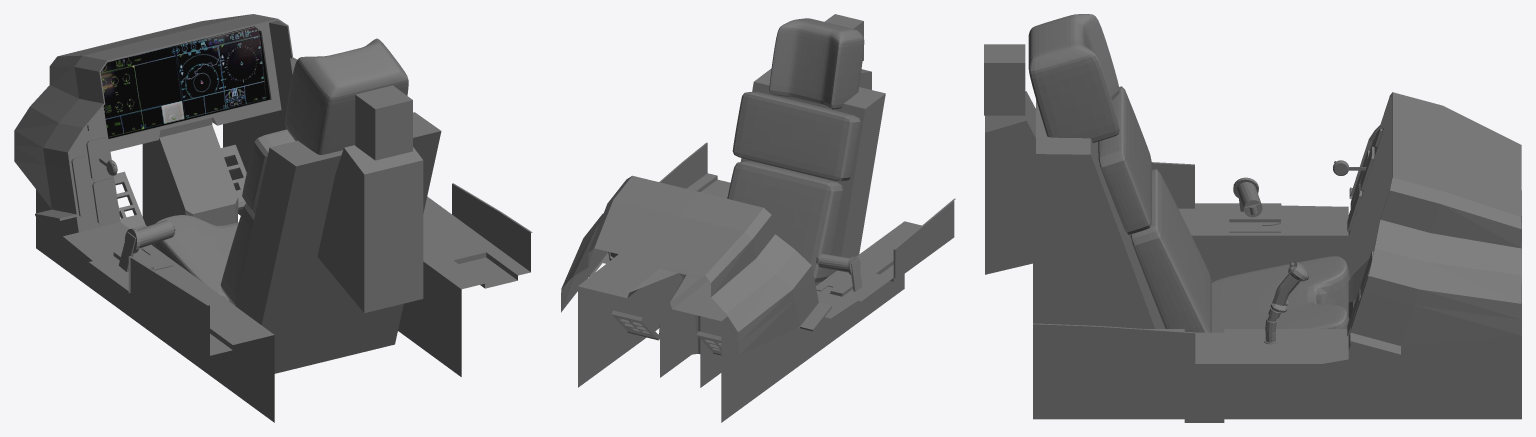
File: cockpit.gltf
The picture shows the model from 3 angles, left to right: view 1: azimuth 30°, elevation 25°; view 2: azimuth 150°, elevation 25°; view 3: azimuth 270°, elevation 25°; orthographic projection. The views are drawn at different scales.
Size of the model in its own units: 1.3 by 1.28 by 1.82.
Materials: 2 (1 with a texture image).
